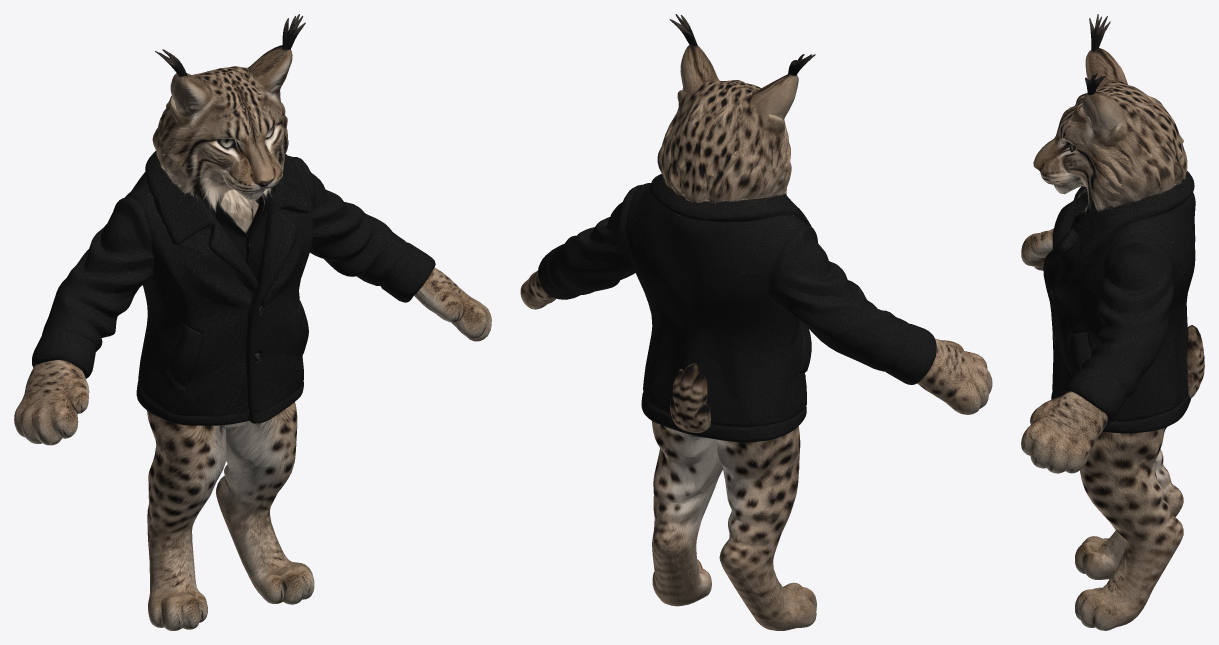
The model's file is sis-mesh.glb.
3 views of the same model, side by side, from view 1: azimuth 30°, elevation 25°; view 2: azimuth 150°, elevation 25°; view 3: azimuth 270°, elevation 25° (orthographic). The views are drawn at different scales.
Visible parts, largest first — view 1: Mesh_0; view 2: Mesh_0; view 3: Mesh_0.
Part boxes in pixels (x1,y1,x2,y2): Mesh_0: (14, 14, 491, 630); Mesh_0: (520, 14, 992, 630); Mesh_0: (1021, 14, 1204, 630).
Size of the model in its own units: 1.59 by 1.9 by 0.5736.
1 material, 1 textured.
